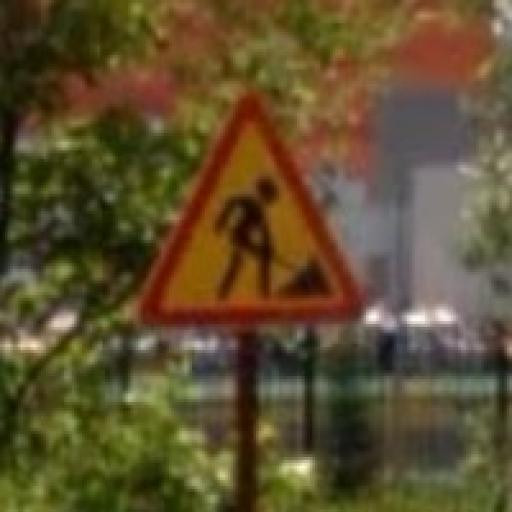traffic_sign: (137, 94, 365, 334)
